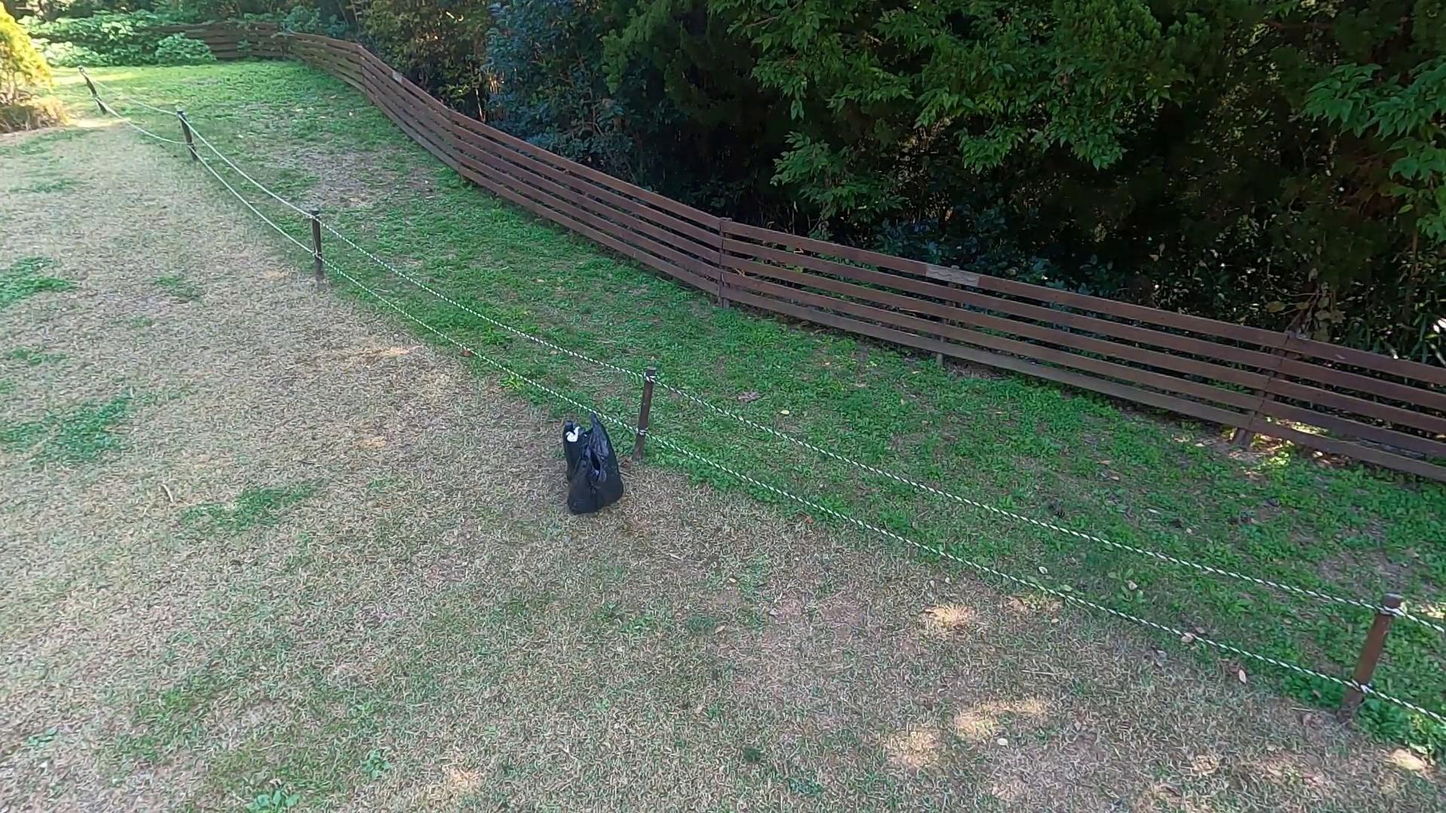trash: (553, 409, 624, 502), (567, 437, 625, 516)
